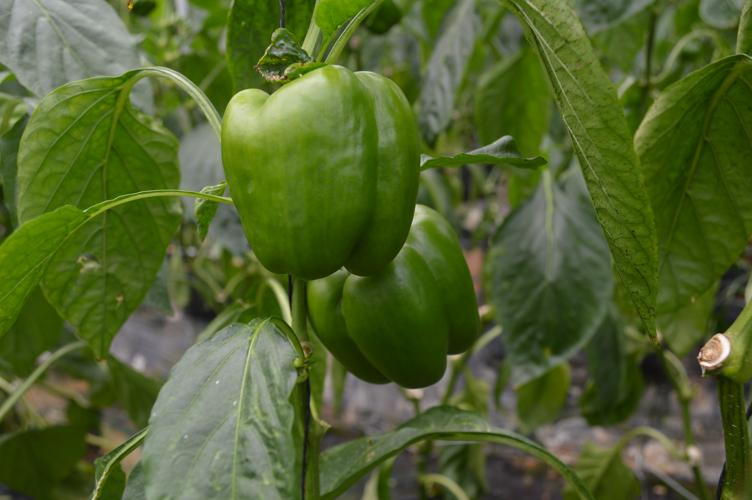BellPepper: (221, 72, 418, 276), (301, 204, 485, 386)
